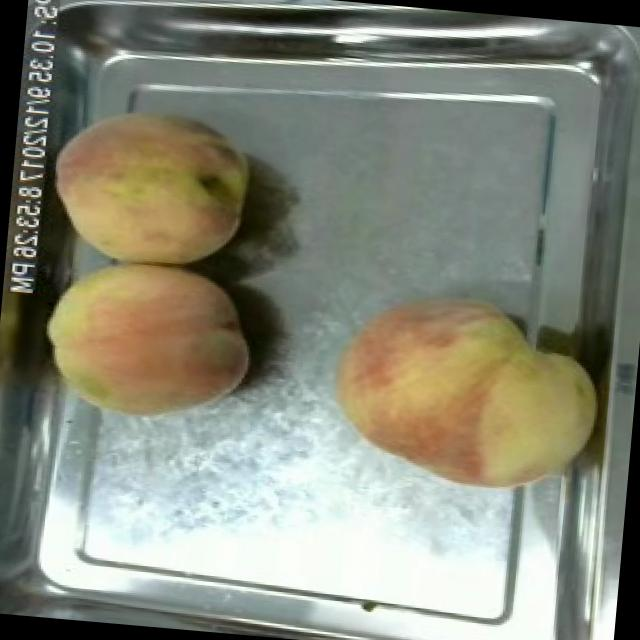Fruit: (318, 276, 614, 507), (25, 250, 265, 438), (36, 92, 266, 282)
